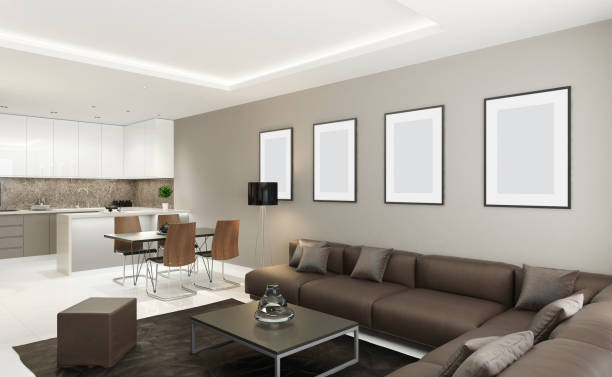dining table set: (103, 211, 242, 301)
floor lamp: (245, 179, 279, 267)
small plant: (157, 184, 175, 209)
sofa: (242, 235, 612, 377)
table: (188, 299, 363, 377)
wall art: (480, 84, 574, 210), (381, 104, 445, 205), (310, 116, 358, 204), (256, 124, 293, 203)
